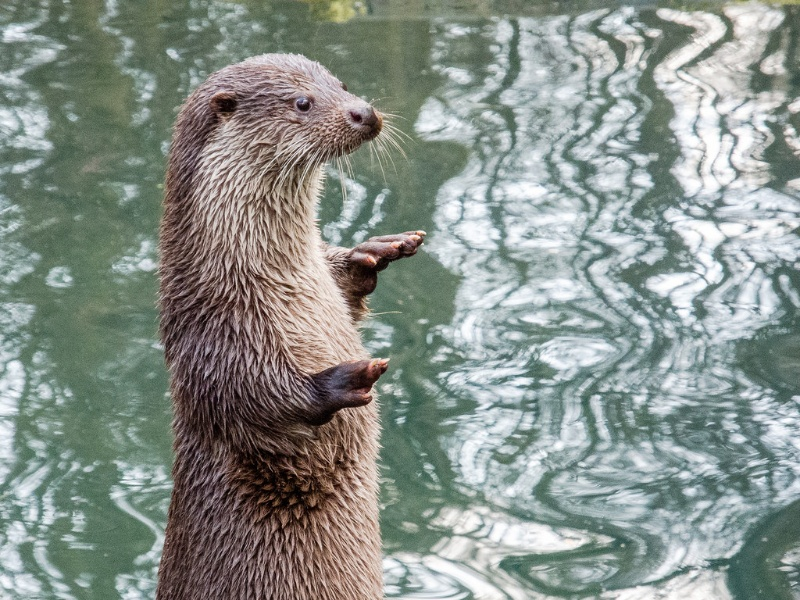minkish: (144, 51, 390, 598)
